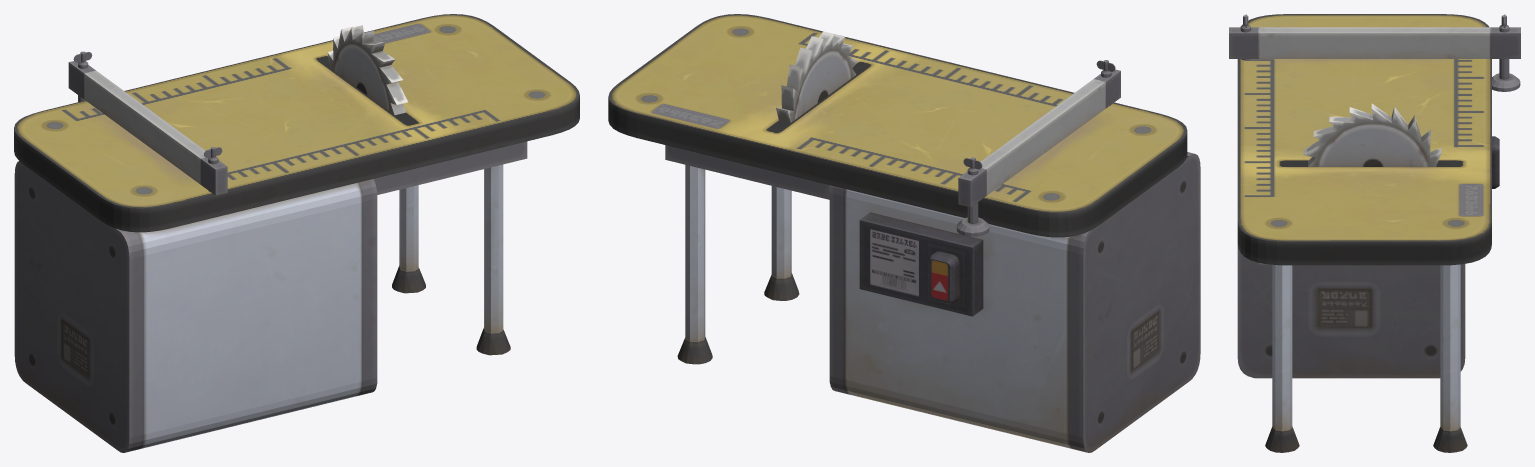
Rendered from P_Workbench_001_S1_M01.obj.
3 views of the same model, side by side, from view 1: azimuth 30°, elevation 25°; view 2: azimuth 150°, elevation 25°; view 3: azimuth 270°, elevation 25° (orthographic). The views are drawn at different scales.
Bounding box in the file's own units: 2.01 × 1.24 × 1.09.
Materials: 1 (1 with a texture image).
